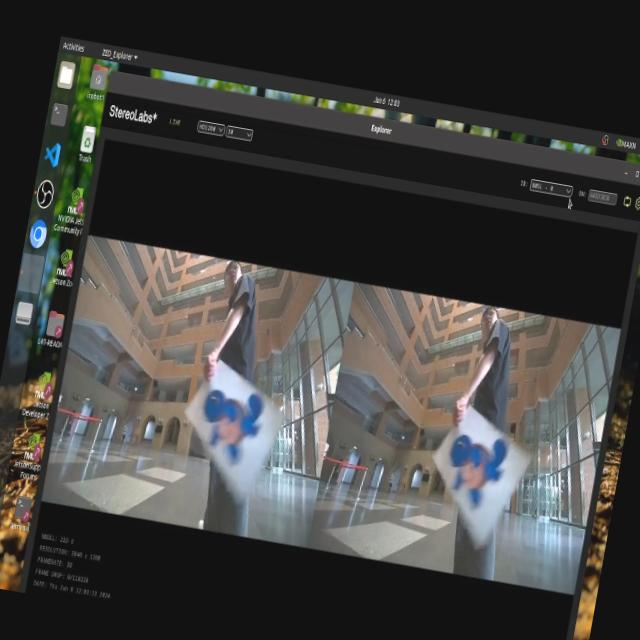blue: (190, 374, 273, 469), (431, 424, 506, 516)
